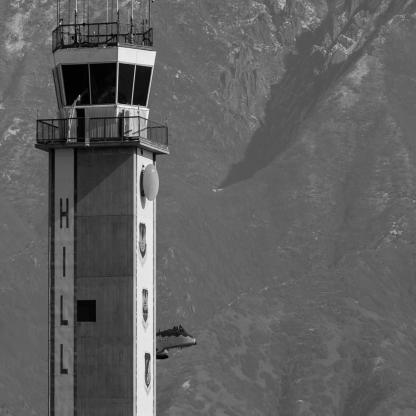A10: (157, 325, 198, 360)
